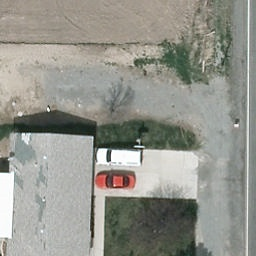car: (96, 147, 144, 166), (94, 174, 138, 190)
